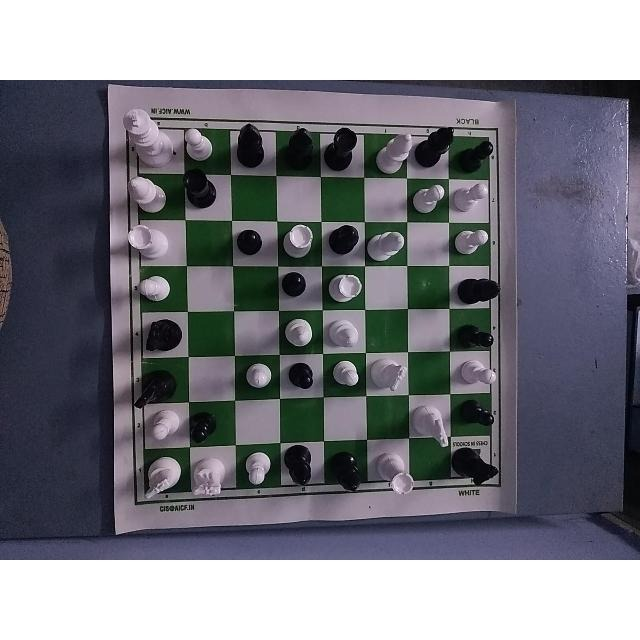black-bishop: (230, 120, 269, 178), (283, 445, 323, 497), (415, 126, 458, 172), (278, 122, 312, 178), (333, 448, 371, 496), (455, 275, 506, 305), (325, 223, 360, 262)
black-knight: (131, 367, 183, 414), (138, 312, 189, 354), (454, 441, 502, 483)
black-pawn: (226, 221, 272, 263), (456, 128, 497, 174), (276, 266, 315, 301), (185, 409, 218, 446), (463, 401, 497, 434), (463, 318, 499, 349), (283, 365, 317, 393)
black-rook: (180, 165, 221, 217), (326, 122, 360, 173)
white-bishop: (121, 169, 173, 219), (369, 131, 416, 180), (364, 226, 408, 268), (276, 315, 319, 356), (318, 318, 372, 350)
white-king: (119, 103, 173, 167)
white-knight: (413, 399, 456, 451), (186, 455, 228, 499), (142, 456, 180, 502), (370, 358, 409, 396)
white-pawn: (458, 354, 501, 395), (147, 403, 187, 445), (181, 125, 222, 163), (236, 451, 273, 493), (134, 271, 178, 305), (451, 182, 493, 216), (412, 179, 448, 218), (449, 225, 491, 257), (331, 358, 363, 392), (243, 365, 273, 392)
white-rook: (373, 446, 419, 494), (128, 223, 174, 264), (278, 217, 316, 261), (328, 270, 372, 306)
